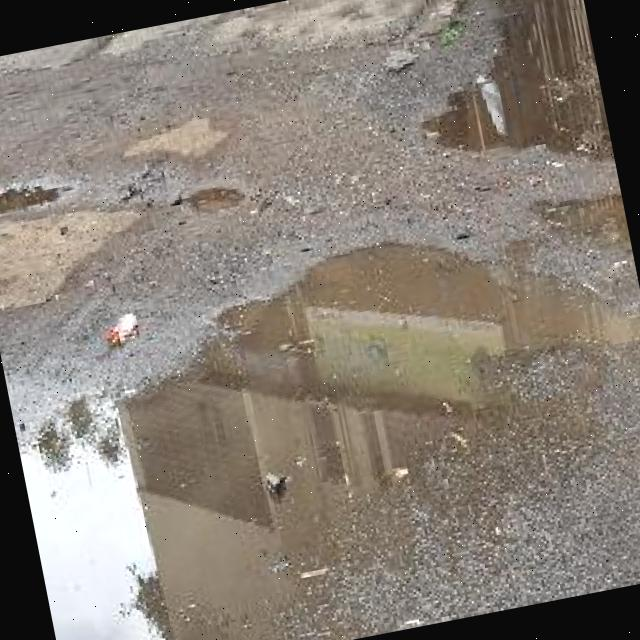waterlogging: (0, 198, 640, 640)
